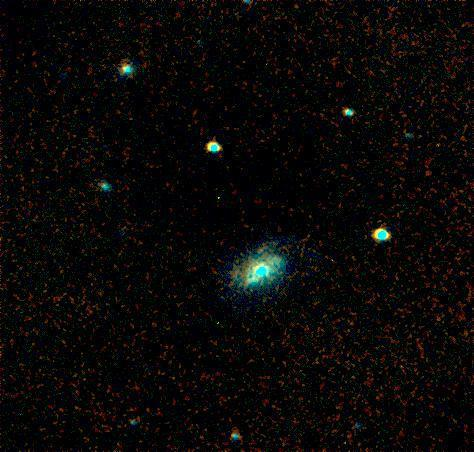star: (68, 363, 98, 393)
